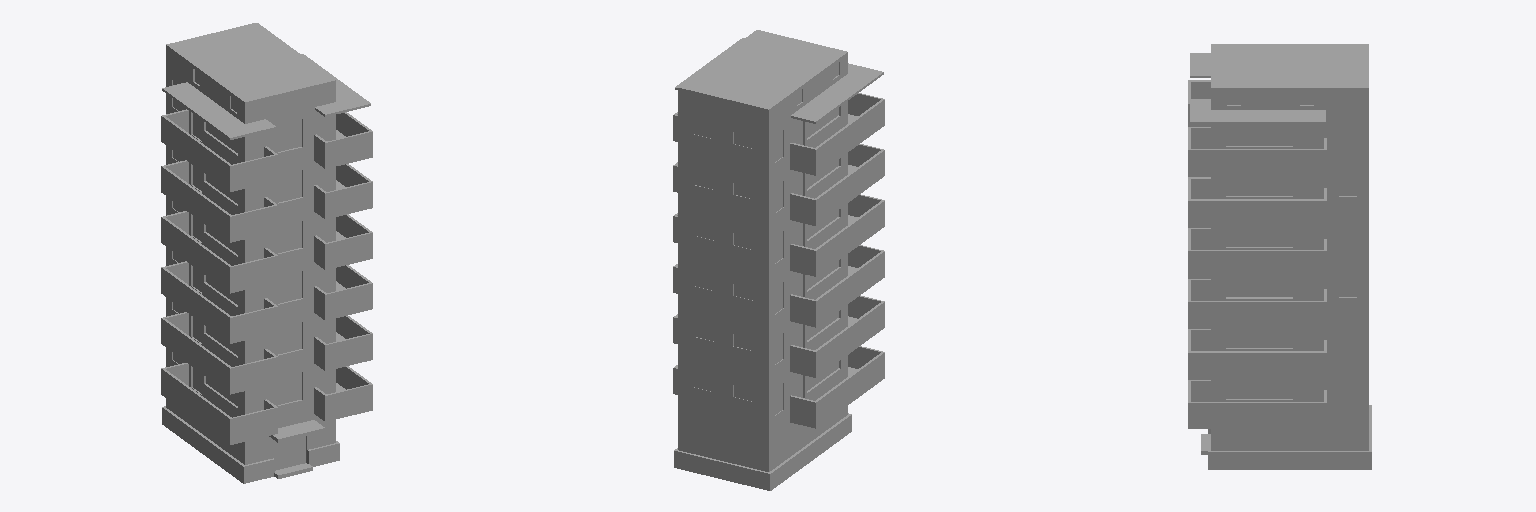
File: edificio7.obj
3 views of the same model, side by side, from view 1: azimuth 30°, elevation 25°; view 2: azimuth 150°, elevation 25°; view 3: azimuth 270°, elevation 25° (orthographic).
Visible parts, largest first — view 1: Block_Building_High; view 2: Block_Building_High; view 3: Block_Building_High.
Part boxes in pixels (x1,y1,x2,y2): Block_Building_High: (161,23,372,483); Block_Building_High: (673,30,884,490); Block_Building_High: (1188,44,1371,469).
Size of the model in its own units: 24.66 by 62.65 by 27.41.